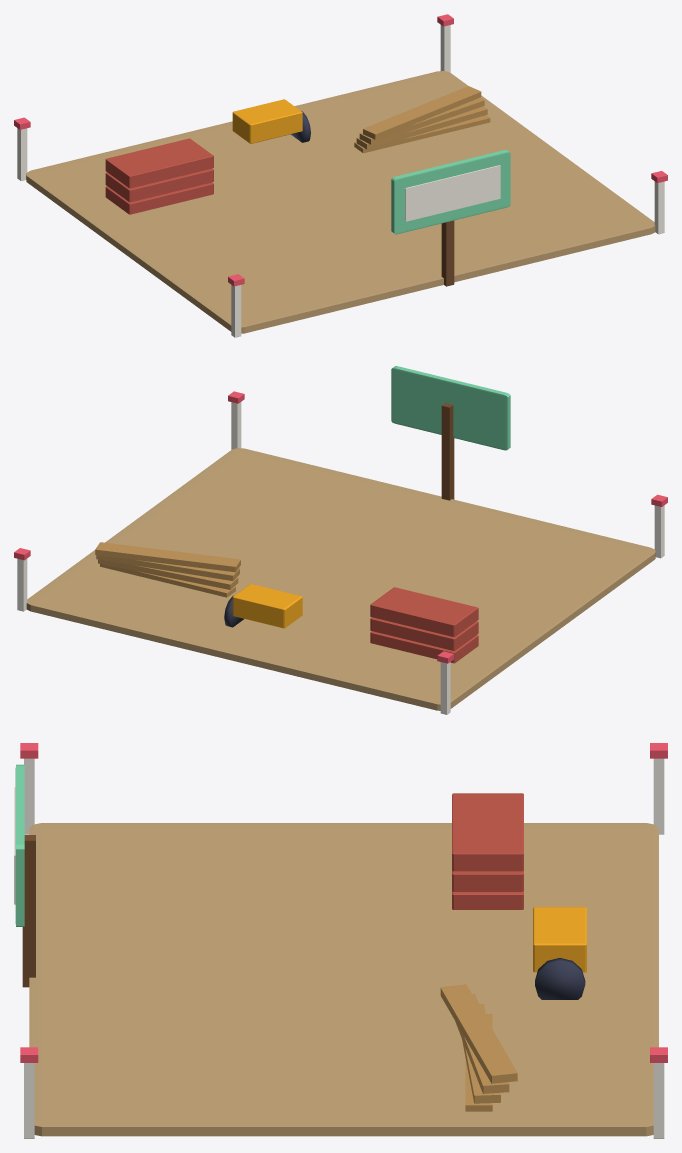
The model's file is parcela.glb.
The picture shows the model from 3 angles, top to bottom: view 1: azimuth 30°, elevation 25°; view 2: azimuth 150°, elevation 25°; view 3: azimuth 270°, elevation 25°; orthographic projection. The views are drawn at different scales.
Parts seen in each view (by area): view 1: parcela; view 2: parcela; view 3: parcela.
Part boxes in pixels (left/top/right/bottom): parcela: left=14, top=14, right=667, bottom=337; parcela: left=14, top=366, right=667, bottom=714; parcela: left=14, top=743, right=667, bottom=1138.
Bounding box in the file's own units: 8.2 × 2.2 × 7.27.
4 materials, 4 textured.
